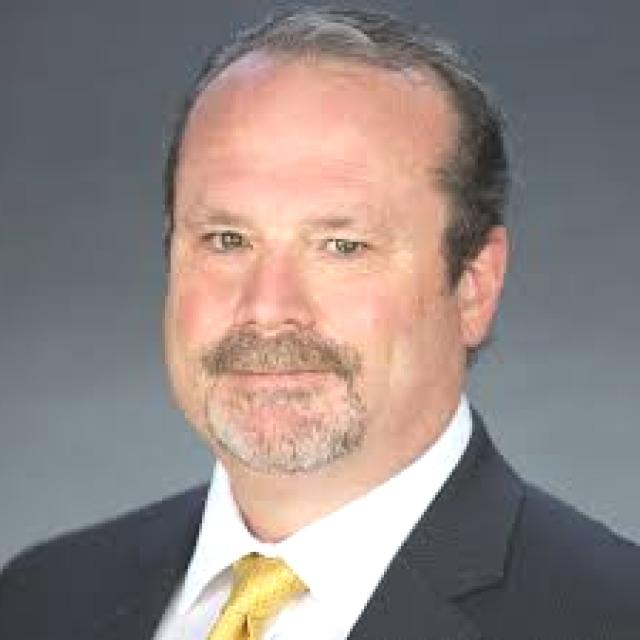normal_face: (161, 29, 501, 487)
